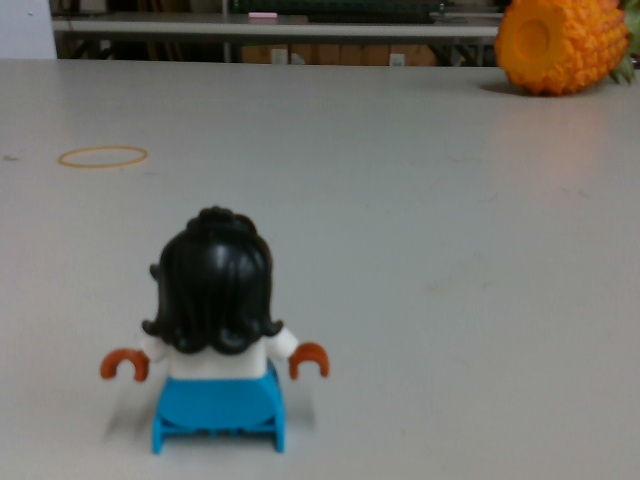people: (98, 201, 332, 460)
